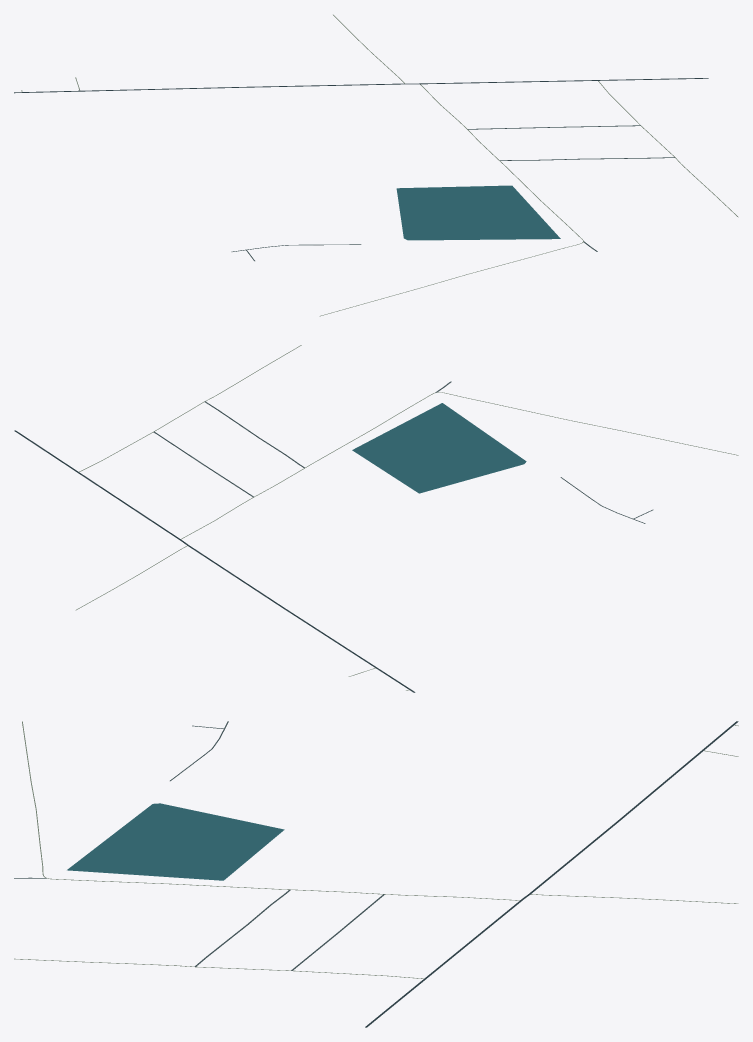
3 views of the same model, one above another, from view 1: azimuth 30°, elevation 25°; view 2: azimuth 150°, elevation 25°; view 3: azimuth 270°, elevation 25° (orthographic). The views are drawn at different scales.
Visible parts, largest first — view 1: water, major, path, street; view 2: water, path, major, street; view 3: water, path, major, street.
Boxes of the visible parts, left/top/right/bottom form: water: left=396, top=185, right=560, bottom=240; major: left=14, top=78, right=708, bottom=93; path: left=21, top=14, right=738, bottom=316; street: left=231, top=125, right=675, bottom=261; water: left=352, top=403, right=526, bottom=493; path: left=75, top=345, right=738, bottom=690; major: left=14, top=430, right=415, bottom=692; street: left=153, top=381, right=653, bottom=523; water: left=67, top=803, right=284, bottom=880; path: left=14, top=721, right=738, bottom=978; major: left=365, top=721, right=738, bottom=1027; street: left=14, top=721, right=384, bottom=970.
Bounding box in the file's own units: 2003 × 0.42 × 2001.
